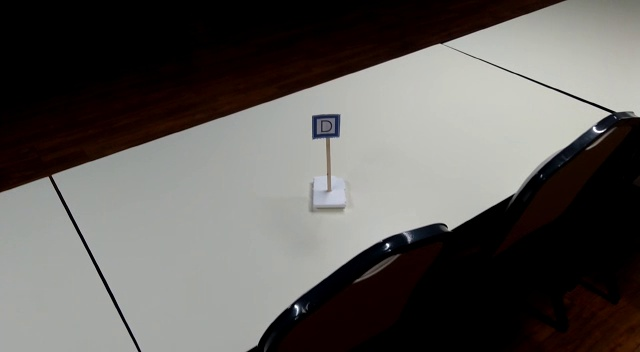durak: (313, 114, 340, 139)
